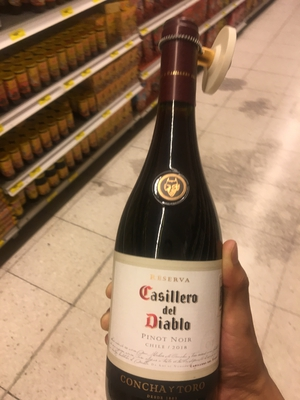casillero del diablo pinot noir: (108, 34, 238, 400)
